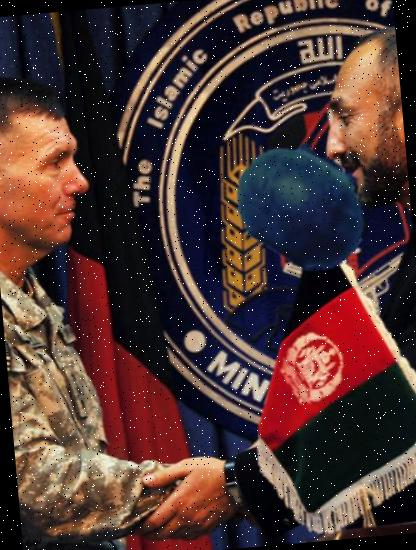Huckleberry: (230, 132, 377, 279)
